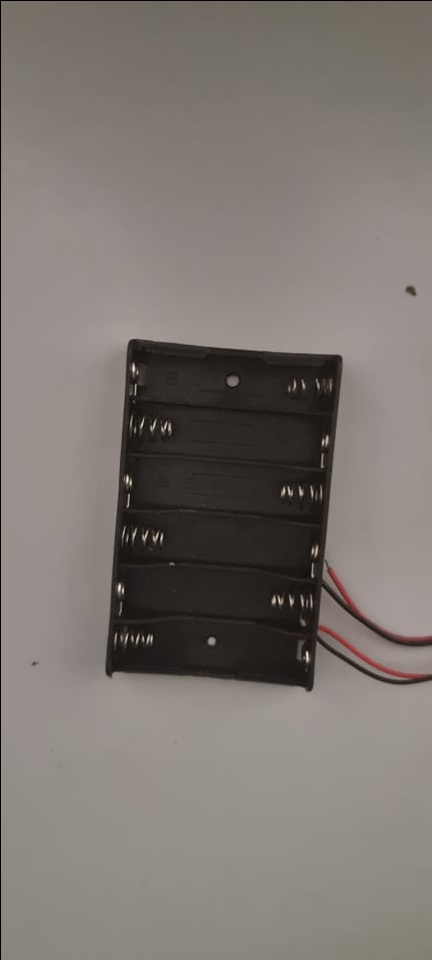BATTERY BOX: (105, 337, 357, 696)
